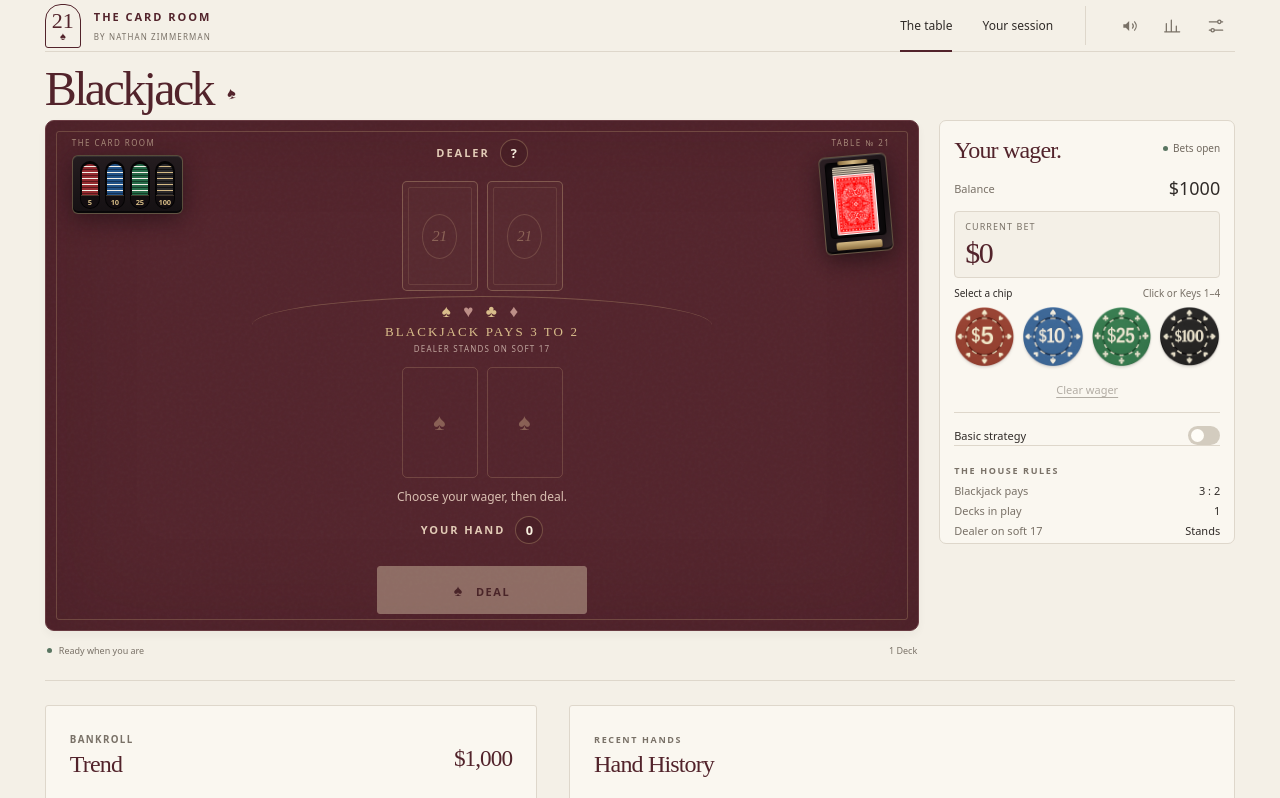
Test: BlackjackGame › toggles basic strategy suggestions and highlights the recommended action
The width and height of the screenshot is (1280, 798).
Click the button with alt text "$10 chip".
click(1053, 336)  # box [1022, 306, 1084, 367]
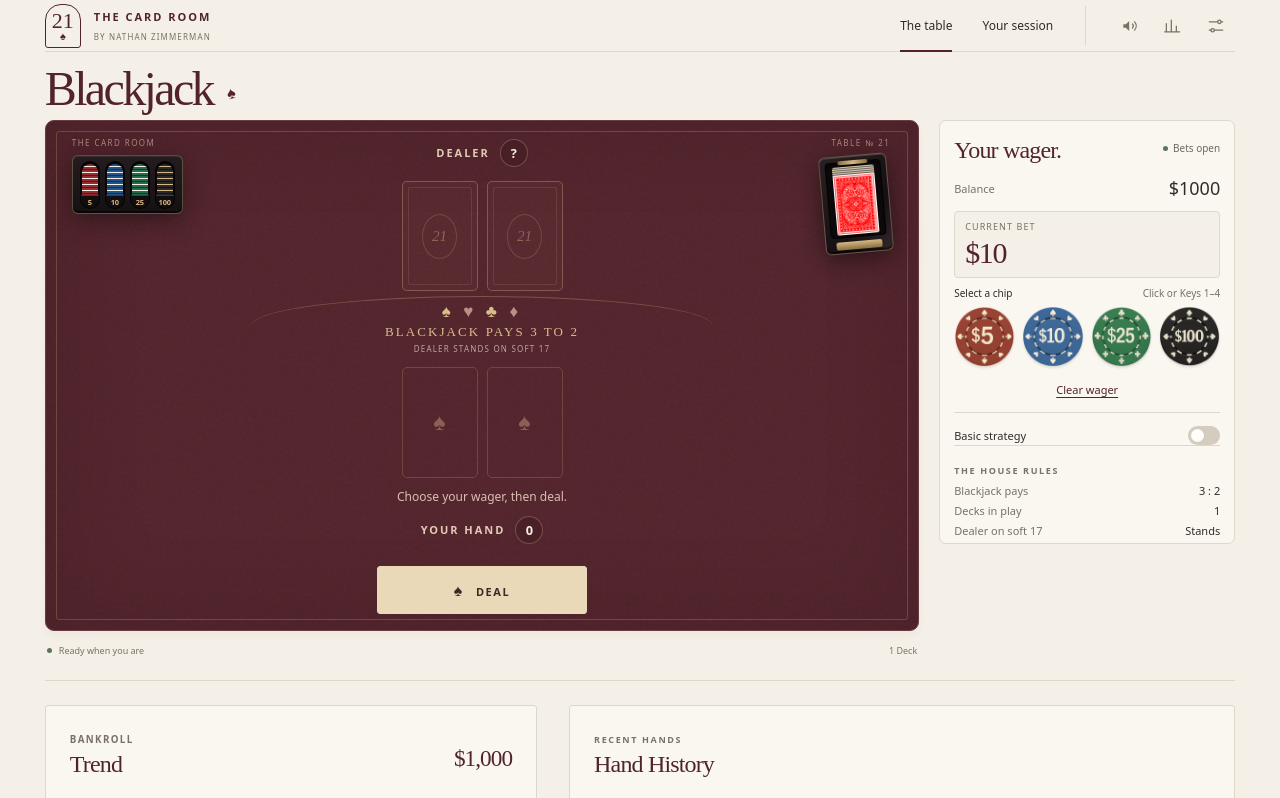
Click the button "DEAL".
click(482, 590)  # box [377, 566, 587, 614]
Wait 5000 ms
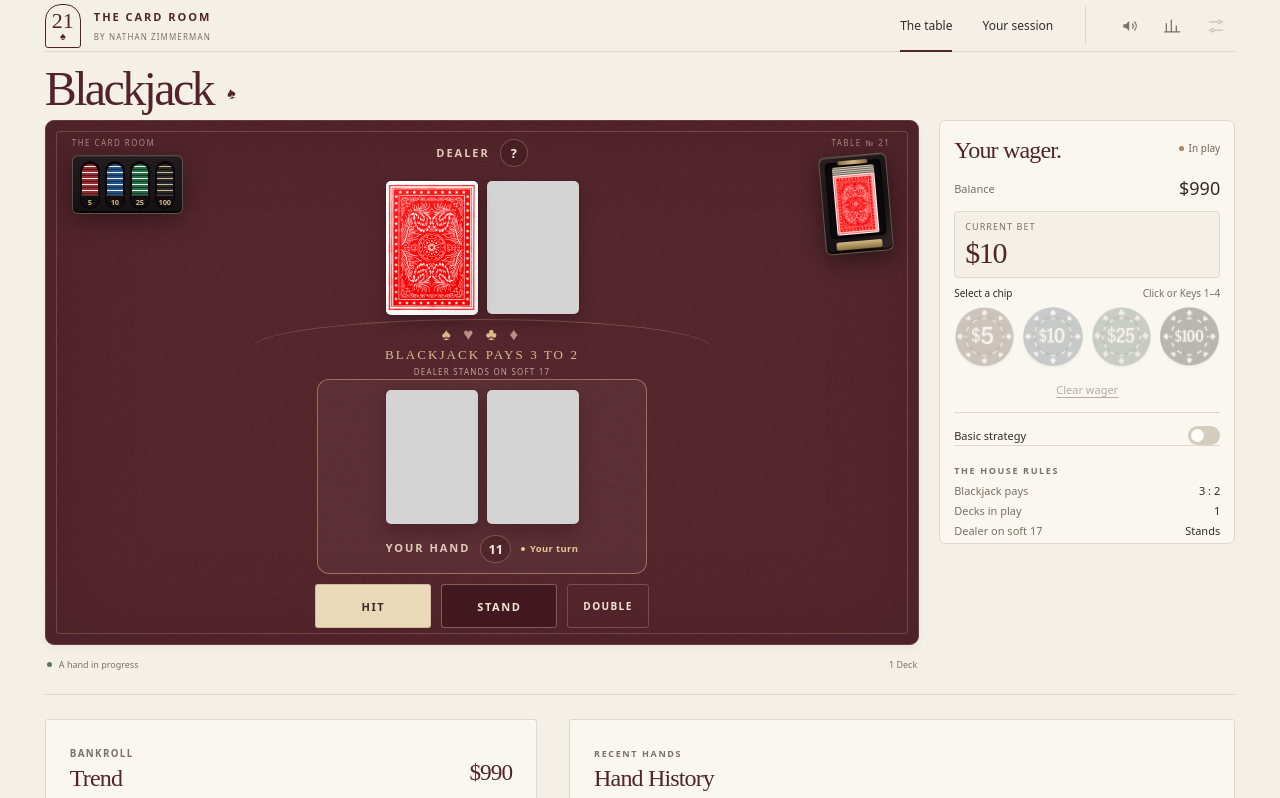
Click the text "Basic strategy".
click(990, 435)  # box [954, 428, 1026, 443]
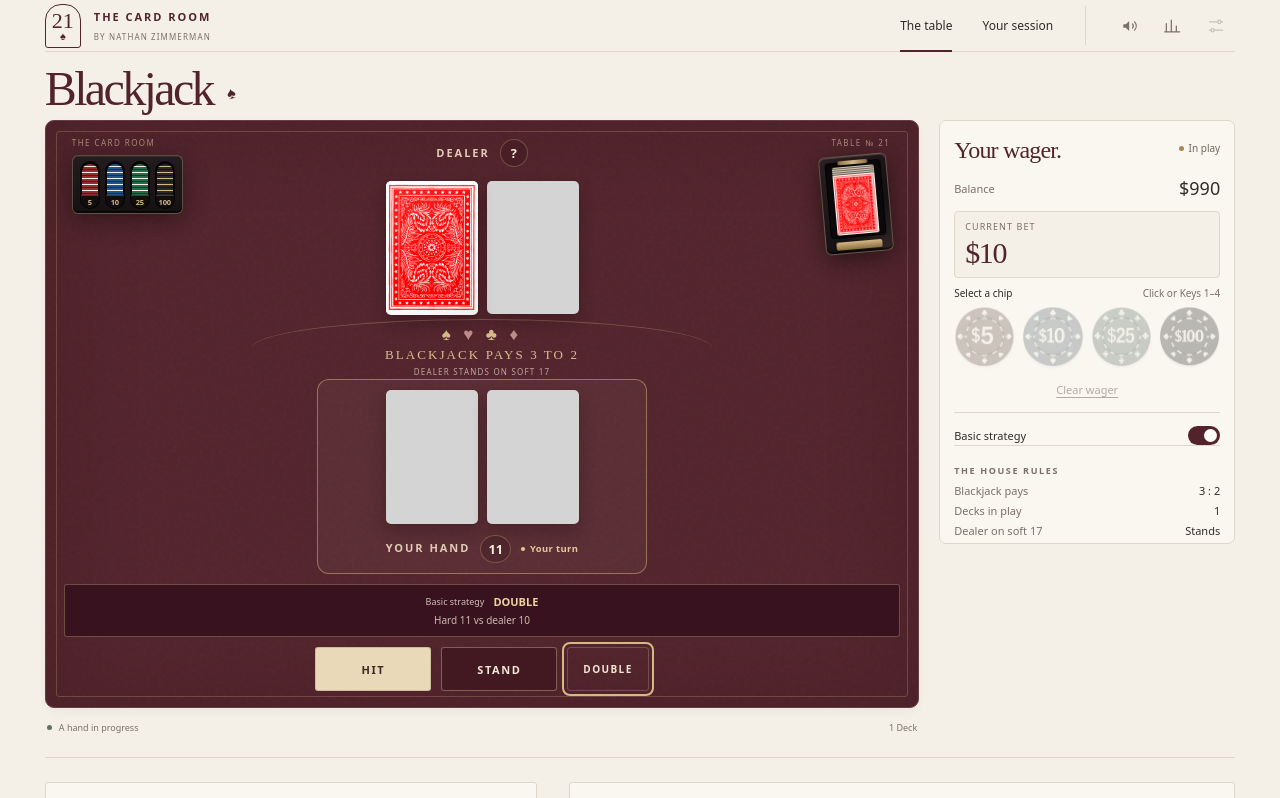
Check: the text "DOUBLE" is shown, box [493, 594, 538, 609]
Check: the text "Hard 11 vs dealer 10" is shown, box [434, 613, 530, 627]
